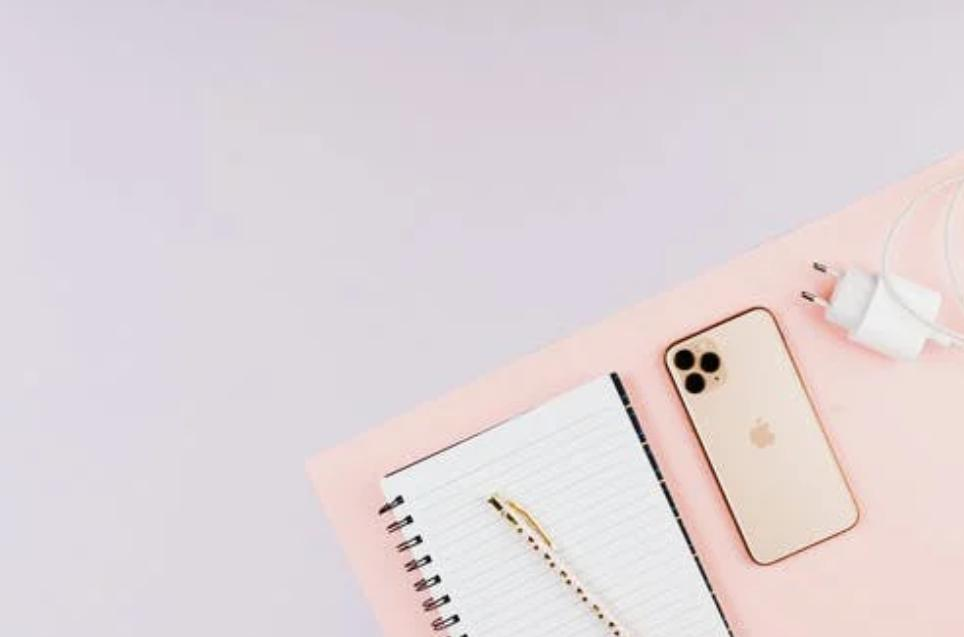mobile: (664, 309, 860, 564)
